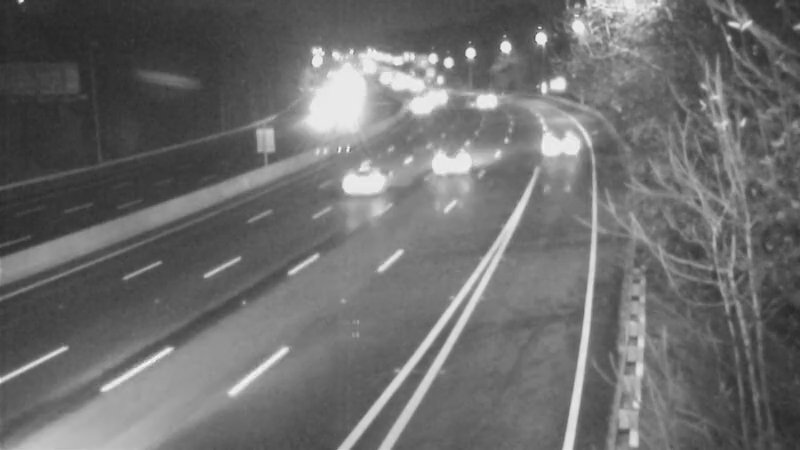vehicle: (411, 116, 491, 196), (333, 142, 413, 222), (414, 71, 464, 121), (453, 72, 503, 122), (390, 80, 440, 130), (536, 114, 586, 164), (296, 92, 346, 142)
